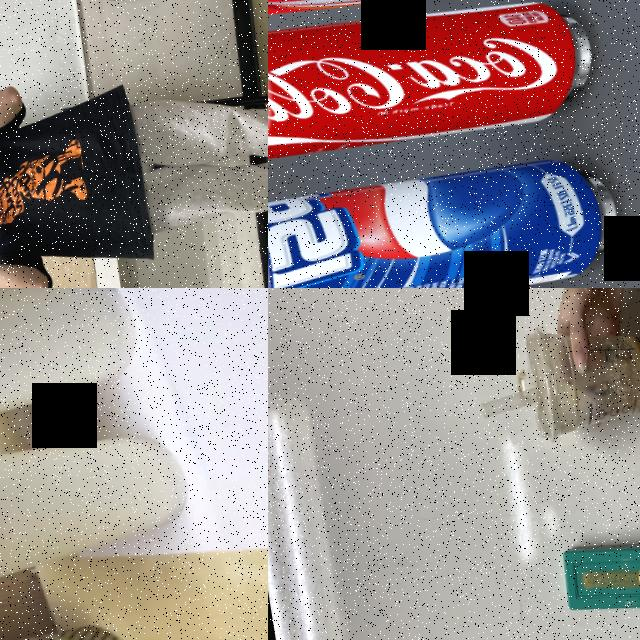can: (268, 0, 614, 180), (268, 145, 639, 288)
cup: (0, 414, 205, 640), (0, 288, 153, 483), (520, 306, 640, 445)
